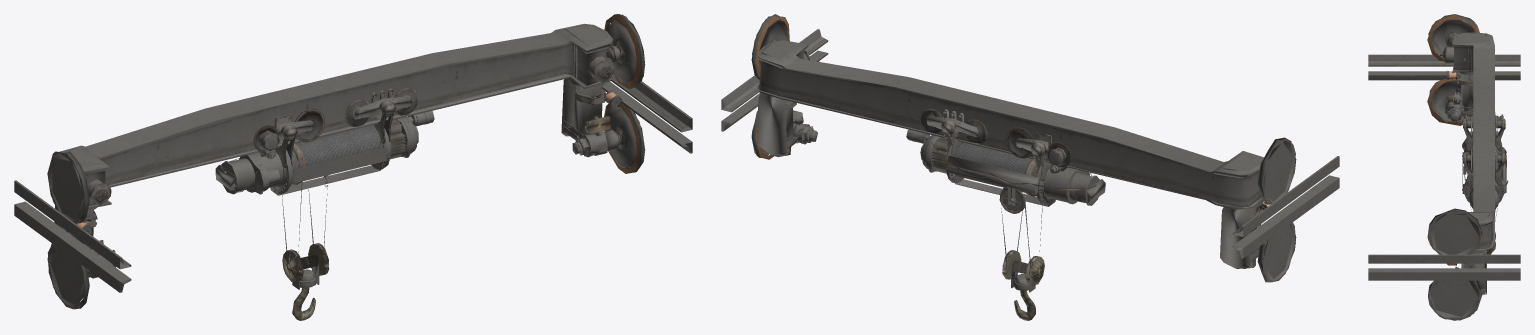
The model's file is overhead_crane.gltf.
The picture shows the model from 3 angles, left to right: view 1: azimuth 30°, elevation 25°; view 2: azimuth 150°, elevation 25°; view 3: azimuth 270°, elevation 25°; orthographic projection. The views are drawn at different scales.
Visible parts, largest first — view 1: overhead_crane, overhead_crane_winch, overhead_crane_rails; view 2: overhead_crane, overhead_crane_winch, overhead_crane_rails; view 3: overhead_crane, overhead_crane_rails, overhead_crane_winch.
Boxes of the visible parts, left/top/right/bottom form: overhead_crane: left=47, top=14, right=645, bottom=309; overhead_crane_winch: left=215, top=87, right=434, bottom=320; overhead_crane_rails: left=14, top=74, right=692, bottom=292; overhead_crane: left=751, top=14, right=1296, bottom=282; overhead_crane_winch: left=906, top=108, right=1105, bottom=320; overhead_crane_rails: left=721, top=29, right=1339, bottom=258; overhead_crane: left=1427, top=14, right=1494, bottom=320; overhead_crane_rails: left=1368, top=54, right=1520, bottom=280; overhead_crane_winch: left=1462, top=112, right=1508, bottom=254.
Bounding box in the file's own units: 12.49 × 5.12 × 4.
Materials: 2 (2 with a texture image).
